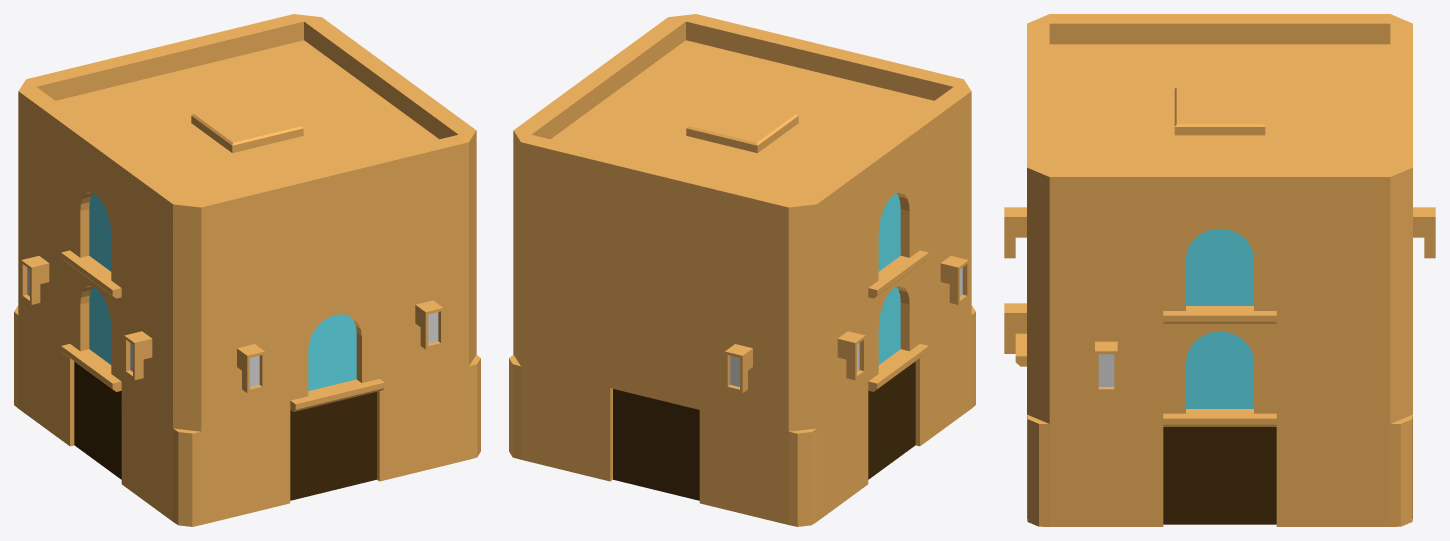
Rendered from house.fbx.
The picture shows the model from 3 angles, left to right: view 1: azimuth 30°, elevation 25°; view 2: azimuth 150°, elevation 25°; view 3: azimuth 270°, elevation 25°; orthographic projection. The views are drawn at different scales.
Parts seen in each view (by area): view 1: House; view 2: House; view 3: House.
Part boxes in pixels (x1,y1,x2,y2): House: (14, 14, 480, 526); House: (509, 14, 975, 526); House: (1004, 14, 1435, 526).
Bounding box in the file's own units: 380 × 340 × 380.
